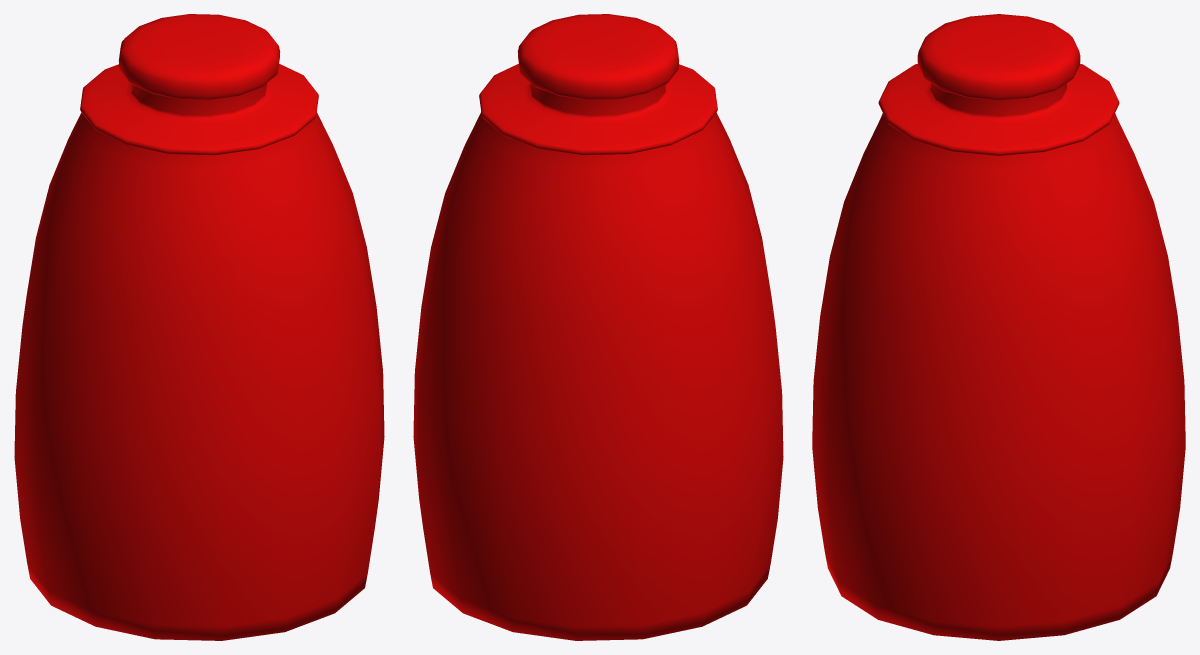
Rendered from jar.fbx.
3 renders of one model, left to right at view 1: azimuth 30°, elevation 25°; view 2: azimuth 150°, elevation 25°; view 3: azimuth 270°, elevation 25°, orthographic.
Parts seen in each view (by area): view 1: polySurface26; view 2: polySurface26; view 3: polySurface26.
Part boxes in pixels (bbox=[...]): polySurface26: bbox=[14, 14, 384, 640]; polySurface26: bbox=[413, 14, 783, 640]; polySurface26: bbox=[812, 14, 1185, 640].
Size of the model in its own units: 19.32 by 30.06 by 19.32.
